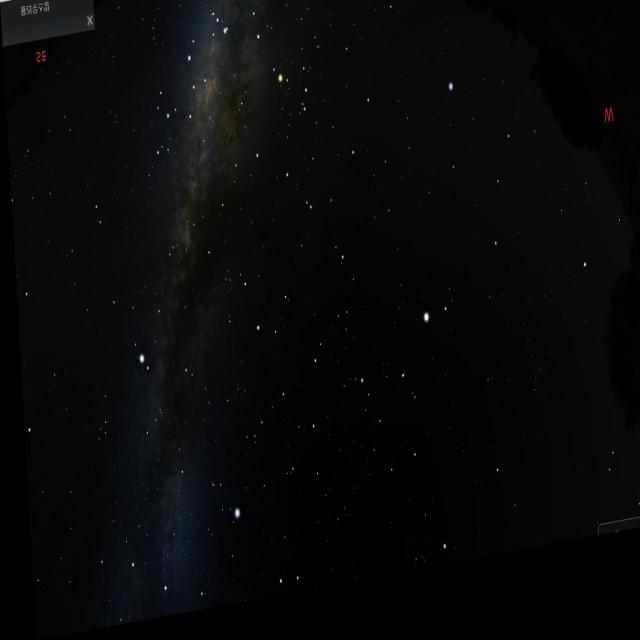aquila: (99, 230, 190, 418)
bootes: (370, 282, 466, 491)
lyra: (200, 473, 239, 533)
sagittarius: (132, 41, 221, 172)
scorpius: (210, 0, 313, 131)
